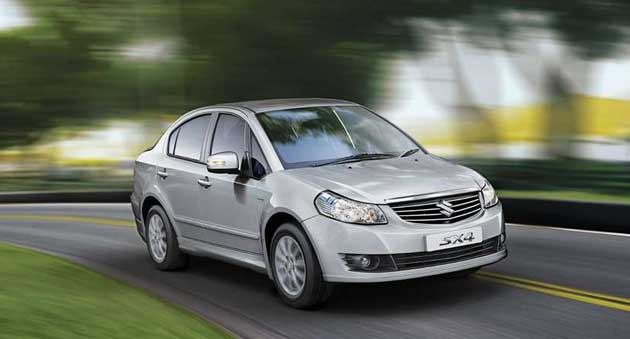Car: (127, 94, 513, 314)
